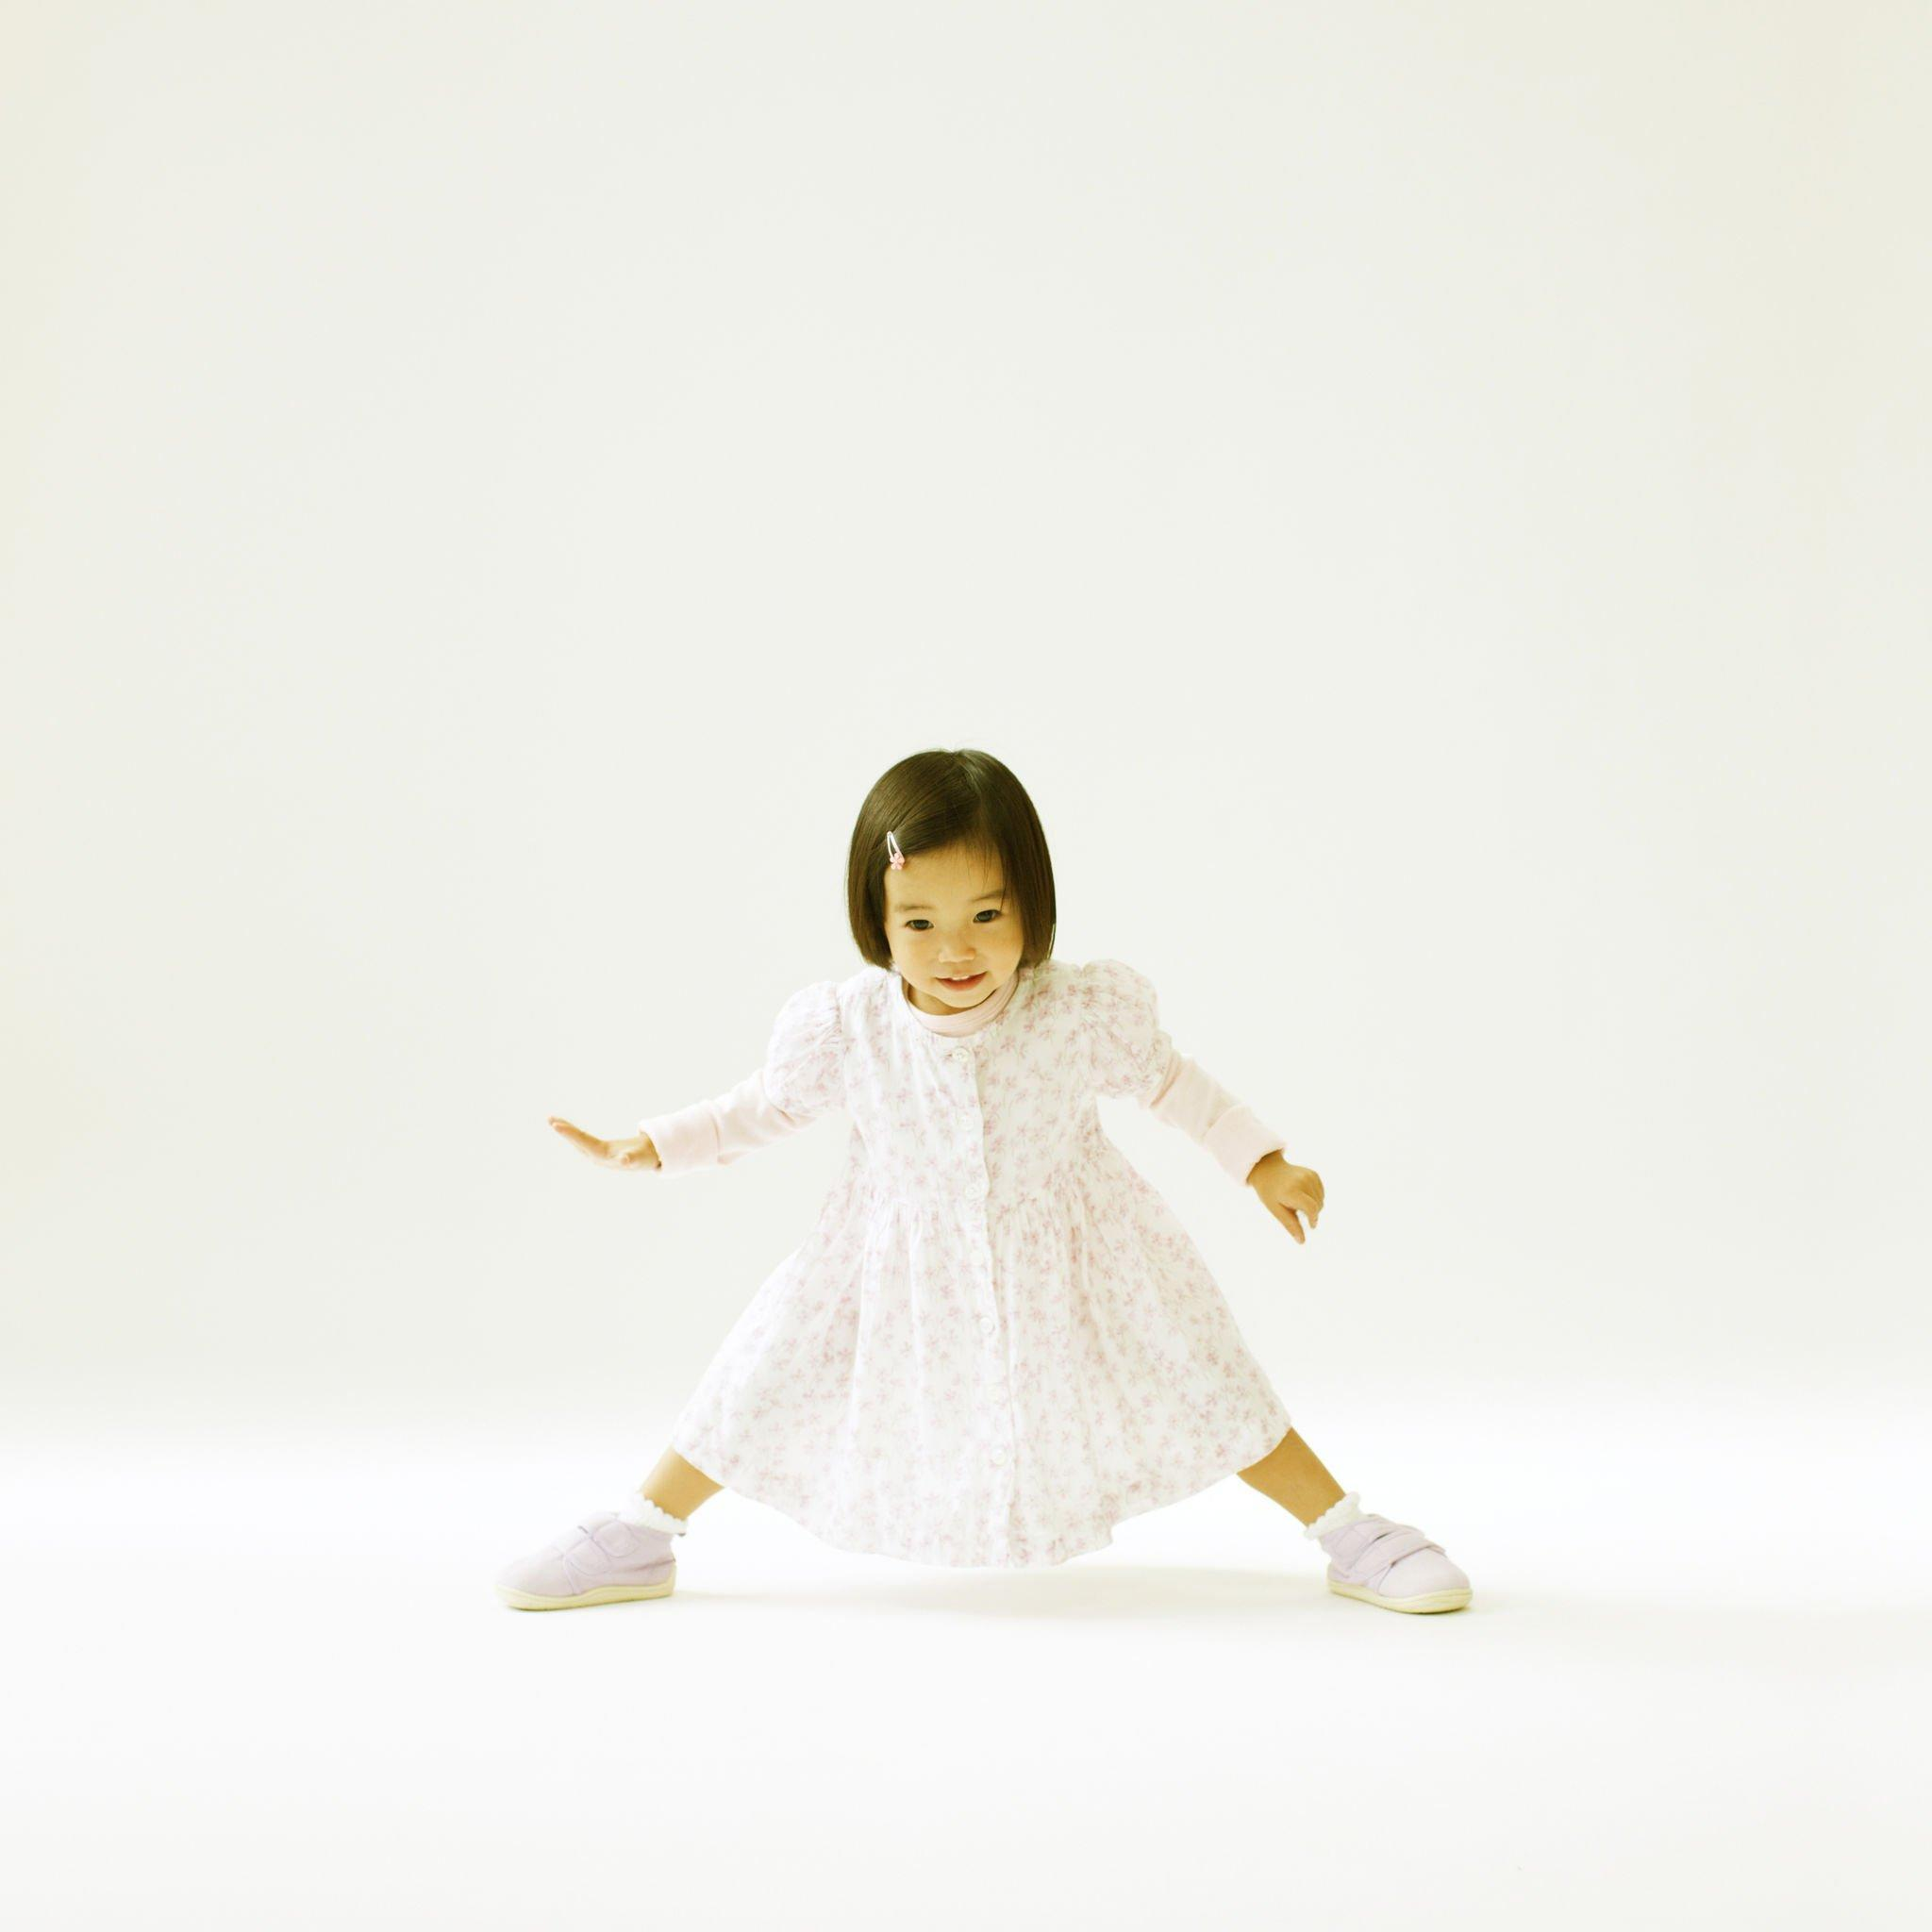Healthy: (853, 807, 1044, 1046)
